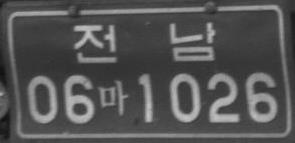0: (168, 72, 201, 123), (26, 74, 58, 124)
1: (132, 72, 160, 123)
2: (206, 71, 239, 123)
6: (244, 71, 278, 123), (62, 74, 95, 124)
마: (97, 79, 130, 116)
전남_D: (73, 21, 215, 63)
